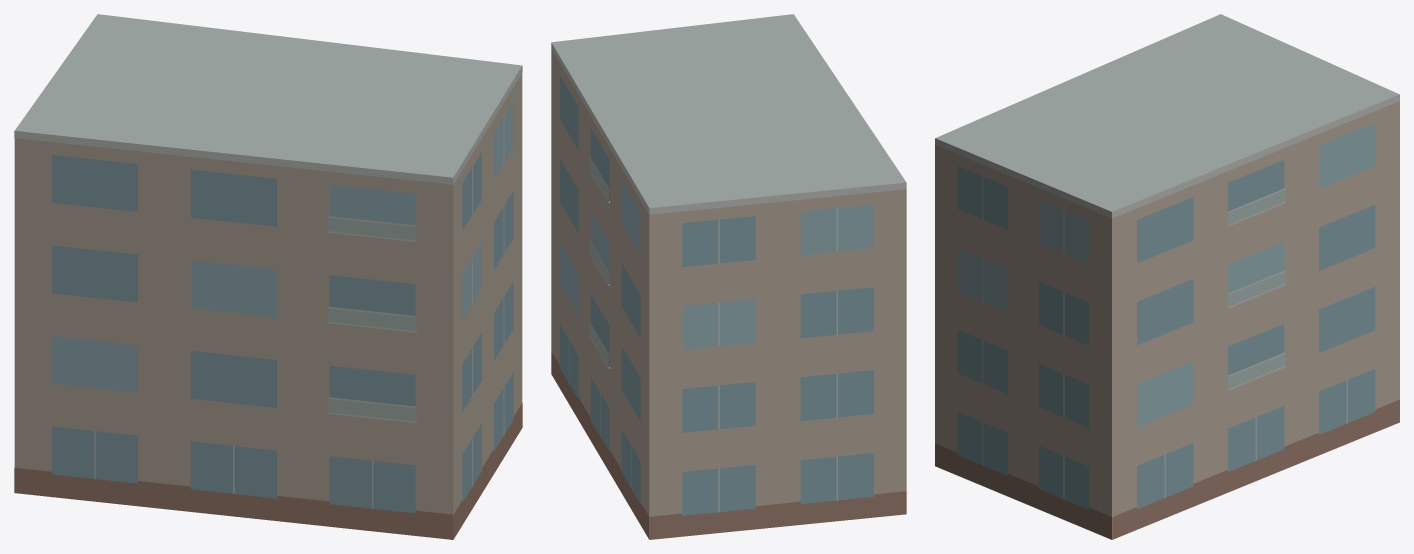
Rendered from survey-upis-32612635.glb.
The picture shows the model from 3 angles, left to right: view 1: azimuth 30°, elevation 25°; view 2: azimuth 150°, elevation 25°; view 3: azimuth 270°, elevation 25°; orthographic projection. The views are drawn at different scales.
Visible parts, largest first — view 1: survey-upis-32612635.tmp; view 2: survey-upis-32612635.tmp; view 3: survey-upis-32612635.tmp.
Part boxes in pixels (box(x1,y1,x2,y2)): survey-upis-32612635.tmp: box(14, 14, 522, 539); survey-upis-32612635.tmp: box(551, 14, 906, 539); survey-upis-32612635.tmp: box(935, 14, 1399, 539).
Size of the model in its own units: 15.8 by 12.2 by 15.68.
